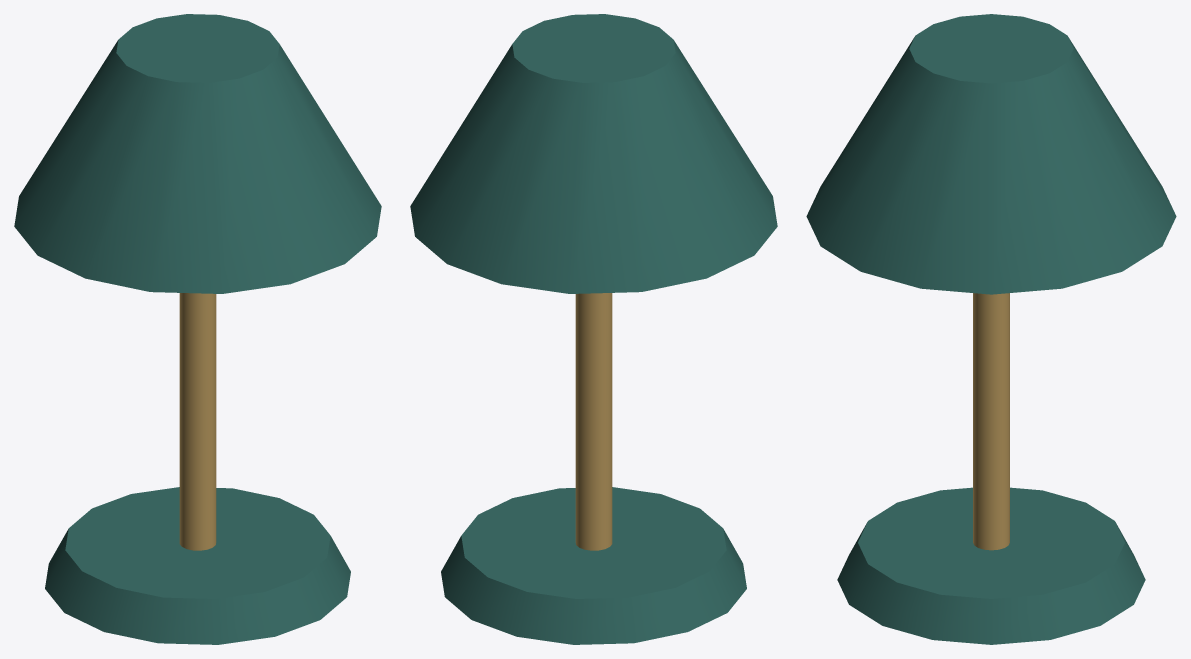
Rendered from lamp.glb.
3 views of the same model, side by side, from view 1: azimuth 30°, elevation 25°; view 2: azimuth 150°, elevation 25°; view 3: azimuth 270°, elevation 25° (orthographic).
Parts seen in each view (by area): view 1: shade, base, stem; view 2: shade, base, stem; view 3: shade, base, stem.
Boxes of the visible parts, x1,y1,x2,y2 form: shade: (14,14,381,293); base: (45,487,350,644); stem: (179,293,216,550); shade: (410,14,777,293); base: (441,487,746,644); stem: (575,293,612,550); shade: (806,14,1176,294); base: (837,487,1145,644); stem: (973,293,1009,550).
Bounding box in the file's own units: 0.36 × 0.57 × 0.36.
